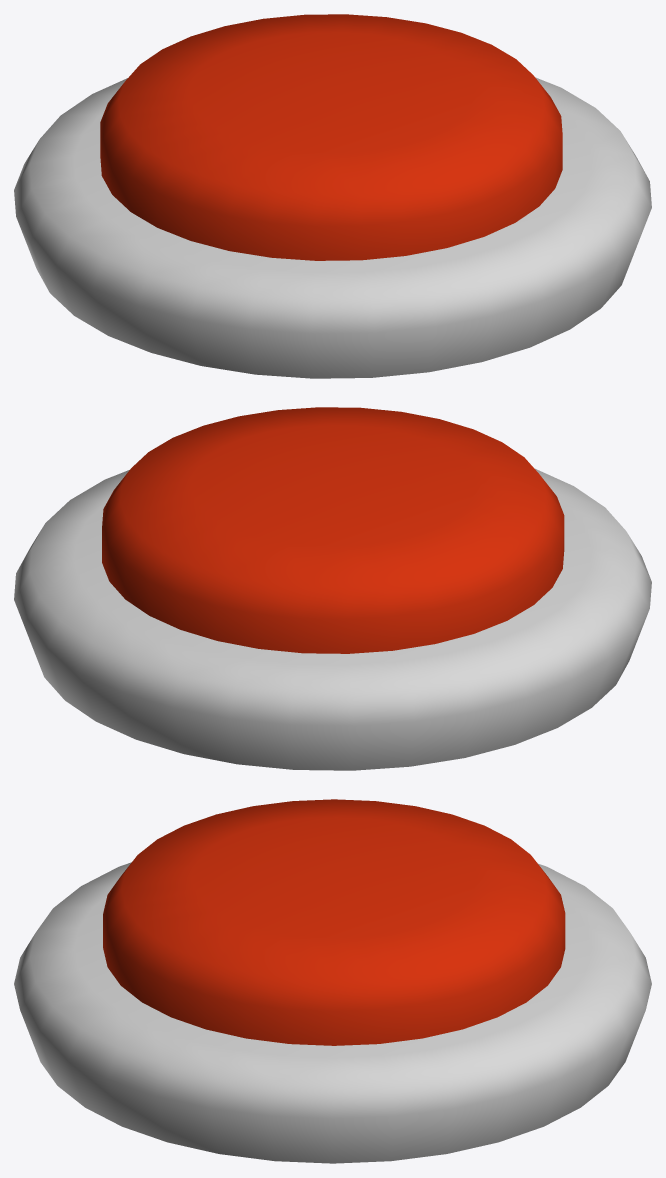
The model's file is push button.dae.
3 views of the same model, one above another, from view 1: azimuth 30°, elevation 25°; view 2: azimuth 150°, elevation 25°; view 3: azimuth 270°, elevation 25° (orthographic).
Parts seen in each view (by area): view 1: Circle, Circle_001; view 2: Circle, Circle_001; view 3: Circle, Circle_001.
Part boxes in pixels (x1=…): Circle: x1=100, y1=14, x2=562, y2=260; Circle_001: x1=14, y1=77, x2=651, y2=378; Circle: x1=102, y1=407, x2=564, y2=653; Circle_001: x1=14, y1=468, x2=651, y2=770; Circle: x1=103, y1=799, x2=565, y2=1045; Circle_001: x1=14, y1=862, x2=651, y2=1163.
Bounding box in the file's own units: 2.14 × 2.14 × 0.6162.
